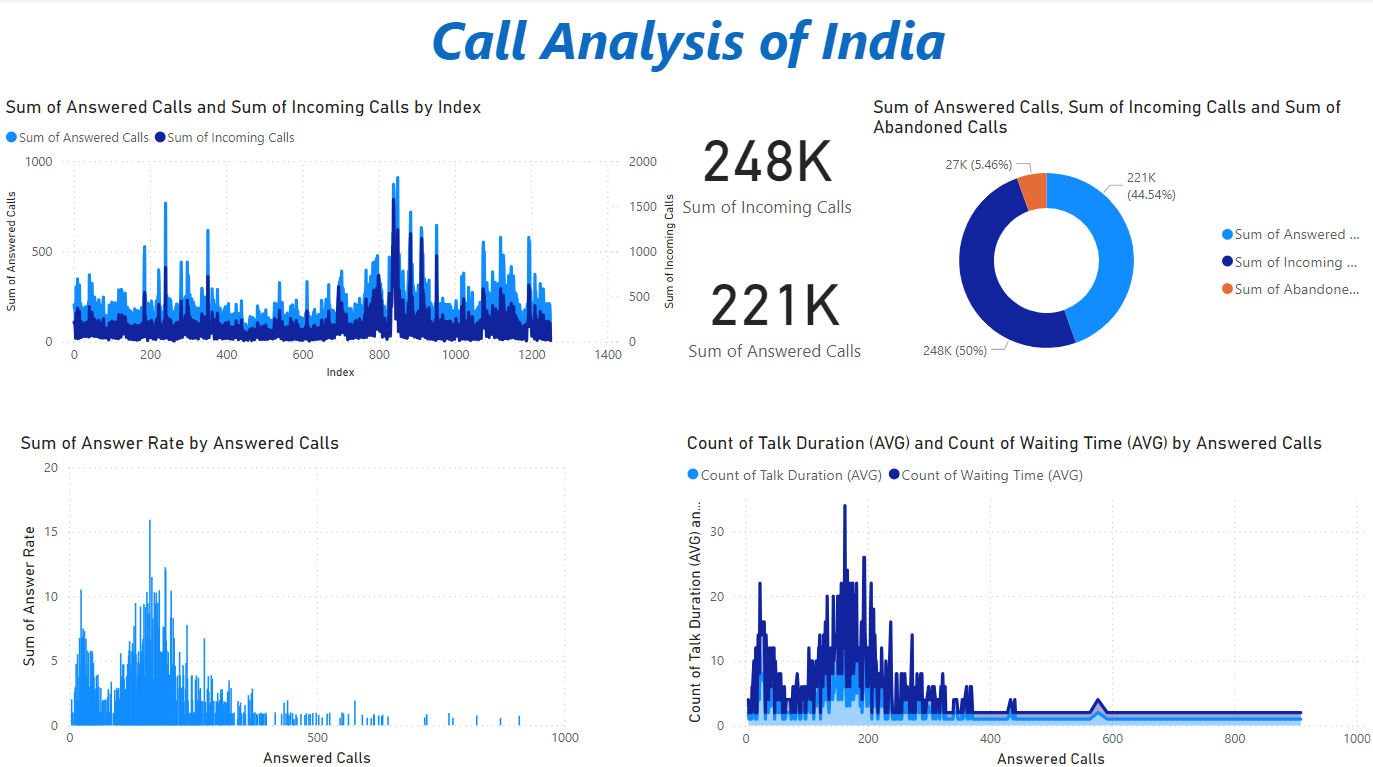

This screenshot's page, from the dashboard's own definition file:
{"tool":"powerbi","page":{"name":"Page 1","canvas":[1280,720],"ordinal":0},"visuals":[{"type":"card","fields":{"Values":["Sum(Sheet1.Answered Calls)"]},"box":[634,211.3,174.3,155.1],"z":0},{"type":"actionButton","box":[0,0,100,40],"z":1000},{"type":"card","fields":{"Values":["Sum(Sheet1.Incoming Calls)"]},"box":[620.2,100.2,188,111.1],"z":2000},{"type":"lineChart","fields":{"Category":["Sheet1.Index"],"Y":["Sum(Sheet1.Answered Calls)"],"Y2":["Sum(Sheet1.Incoming Calls)"]},"box":[0,90.6,634,269],"z":3000},{"type":"clusteredColumnChart","fields":{"Y":["Sum(Sheet1.Answer Rate)"],"Category":["Sheet1.Answered Calls"]},"box":[13.7,403.4,531,317],"z":4000},{"type":"donutChart","fields":{"Y":["Sum(Sheet1.Answered Calls)","Sum(Sheet1.Incoming Calls)","Sum(Sheet1.Abandoned Calls)"]},"box":[806.9,90.6,473.4,269],"z":5000},{"type":"stackedAreaChart","fields":{"Y":["CountNonNull(Sheet1.Talk Duration (AVG))","CountNonNull(Sheet1.Waiting Time (AVG))"],"Category":["Sheet1.Answered Calls"]},"box":[634,403.4,646.3,317],"z":6000},{"type":"textbox","box":[0,0,1280.3,81],"z":7000}]}

Visuals, with their boxes in screenshot pixels (x1, y1, x2, y2), scaled from the page's 1280x720 canvas onto the 1373x767 screenshot:
card - Sum(Sheet1.Answered Calls): (680, 225, 867, 390)
actionButton: (0, 0, 107, 43)
card - Sum(Sheet1.Incoming Calls): (665, 107, 867, 225)
lineChart - Sheet1.Index x Sum(Sheet1.Answered Calls): (0, 97, 680, 383)
clusteredColumnChart - Sum(Sheet1.Answer Rate) x Sheet1.Answered Calls: (15, 430, 584, 766)
donutChart - Sum(Sheet1.Answered Calls) x Sum(Sheet1.Incoming Calls): (866, 97, 1372, 383)
stackedAreaChart - CountNonNull(Sheet1.Talk Duration (AVG)) x CountNonNull(Sheet1.Waiting Time (AVG)): (680, 430, 1372, 766)
textbox: (0, 0, 1372, 86)
